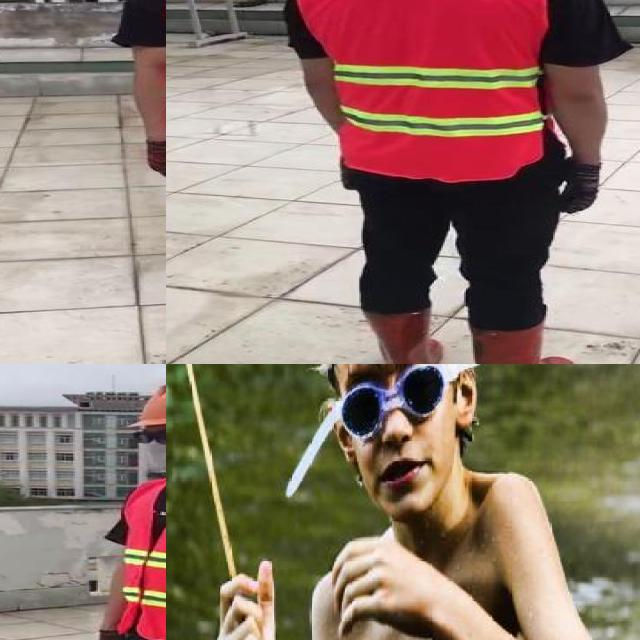boots: (359, 306, 441, 364), (469, 323, 576, 364)
face_mask: (128, 424, 166, 479)
face_nomask: (344, 366, 450, 502)
glasses: (323, 364, 470, 446), (130, 426, 166, 448)
hand_glove: (556, 160, 598, 216), (139, 137, 166, 182), (94, 629, 128, 640)
hand_noglove: (328, 529, 419, 633), (210, 553, 284, 640)
head_helmet: (137, 376, 166, 431)
person: (266, 0, 640, 364), (203, 364, 634, 640), (77, 367, 166, 640), (105, 0, 166, 343)
vest: (299, 0, 553, 182), (114, 479, 166, 640)
